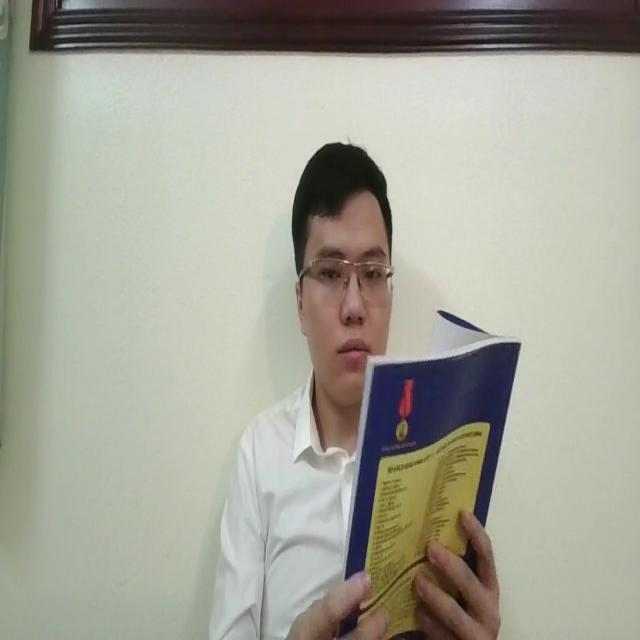book: (338, 299, 521, 640)
student: (205, 135, 393, 640)
